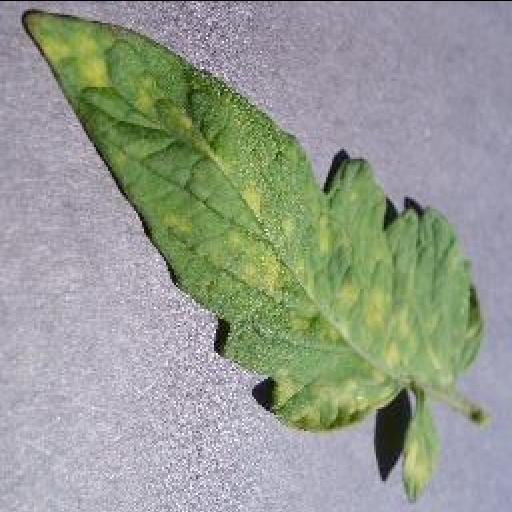disease_tomato: (23, 9, 485, 429)
